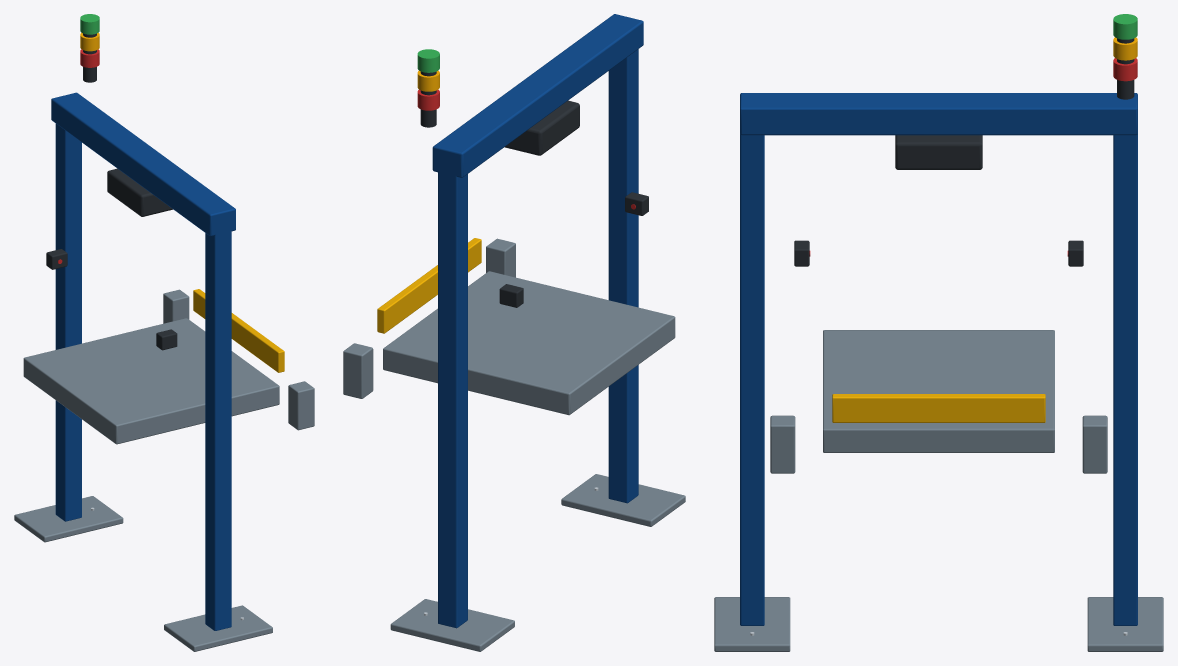
File: inspection_portal.glb
3 views of the same model, side by side, from view 1: azimuth 30°, elevation 25°; view 2: azimuth 150°, elevation 25°; view 3: azimuth 270°, elevation 25° (orthographic). The views are drawn at different scales.
Visible parts, largest first — view 1: Scale housing, Inspection upright, Inspection upright.001, Inspection crosshead, Inspection foot, Inspection foot.001, STOPPER_GATE, Optical module, Stopper cylinder, Stopper cylinder.001; view 2: Scale housing, Inspection upright.001, Inspection upright, Inspection crosshead, Inspection foot, Inspection foot.001, STOPPER_GATE, Optical module, Stopper cylinder.001, Stopper cylinder, Tower segment.002, Photoelectric cell.001; view 3: Scale housing, Inspection crosshead, Inspection upright, Inspection upright.001, STOPPER_GATE, Inspection foot, Inspection foot.001, Optical module, Stopper cylinder, Stopper cylinder.001.
Part boxes in pixels (x1,y1,x2,y2): Scale housing: [23, 318, 279, 444]; Inspection upright: [205, 214, 231, 630]; Inspection upright.001: [55, 123, 81, 521]; Inspection crosshead: [51, 92, 235, 236]; Inspection foot: [164, 605, 272, 651]; Inspection foot.001: [14, 496, 123, 542]; STOPPER_GATE: [193, 289, 284, 372]; Optical module: [107, 168, 172, 216]; Stopper cylinder: [288, 381, 314, 430]; Stopper cylinder.001: [163, 289, 189, 323]; Scale housing: [383, 271, 675, 415]; Inspection upright.001: [438, 152, 467, 628]; Inspection upright: [608, 49, 638, 503]; Inspection crosshead: [432, 14, 643, 177]; Inspection foot: [561, 474, 685, 526]; Inspection foot.001: [390, 599, 514, 651]; STOPPER_GATE: [377, 238, 481, 333]; Optical module: [504, 100, 579, 155]; Stopper cylinder.001: [343, 343, 373, 398]; Stopper cylinder: [486, 238, 515, 277]; Tower segment.002: [417, 49, 439, 72]; Photoelectric cell.001: [499, 284, 523, 307]; Scale housing: [823, 330, 1054, 452]; Inspection crosshead: [740, 93, 1137, 135]; Inspection upright: [740, 134, 764, 625]; Inspection upright.001: [1113, 134, 1137, 625]; STOPPER_GATE: [832, 394, 1045, 422]; Inspection foot: [714, 597, 790, 651]; Inspection foot.001: [1087, 597, 1163, 651]; Optical module: [895, 135, 982, 169]; Stopper cylinder: [770, 415, 795, 473]; Stopper cylinder.001: [1082, 415, 1107, 473].
Size of the model in its own units: 0.6725 by 1.8 by 1.18.
